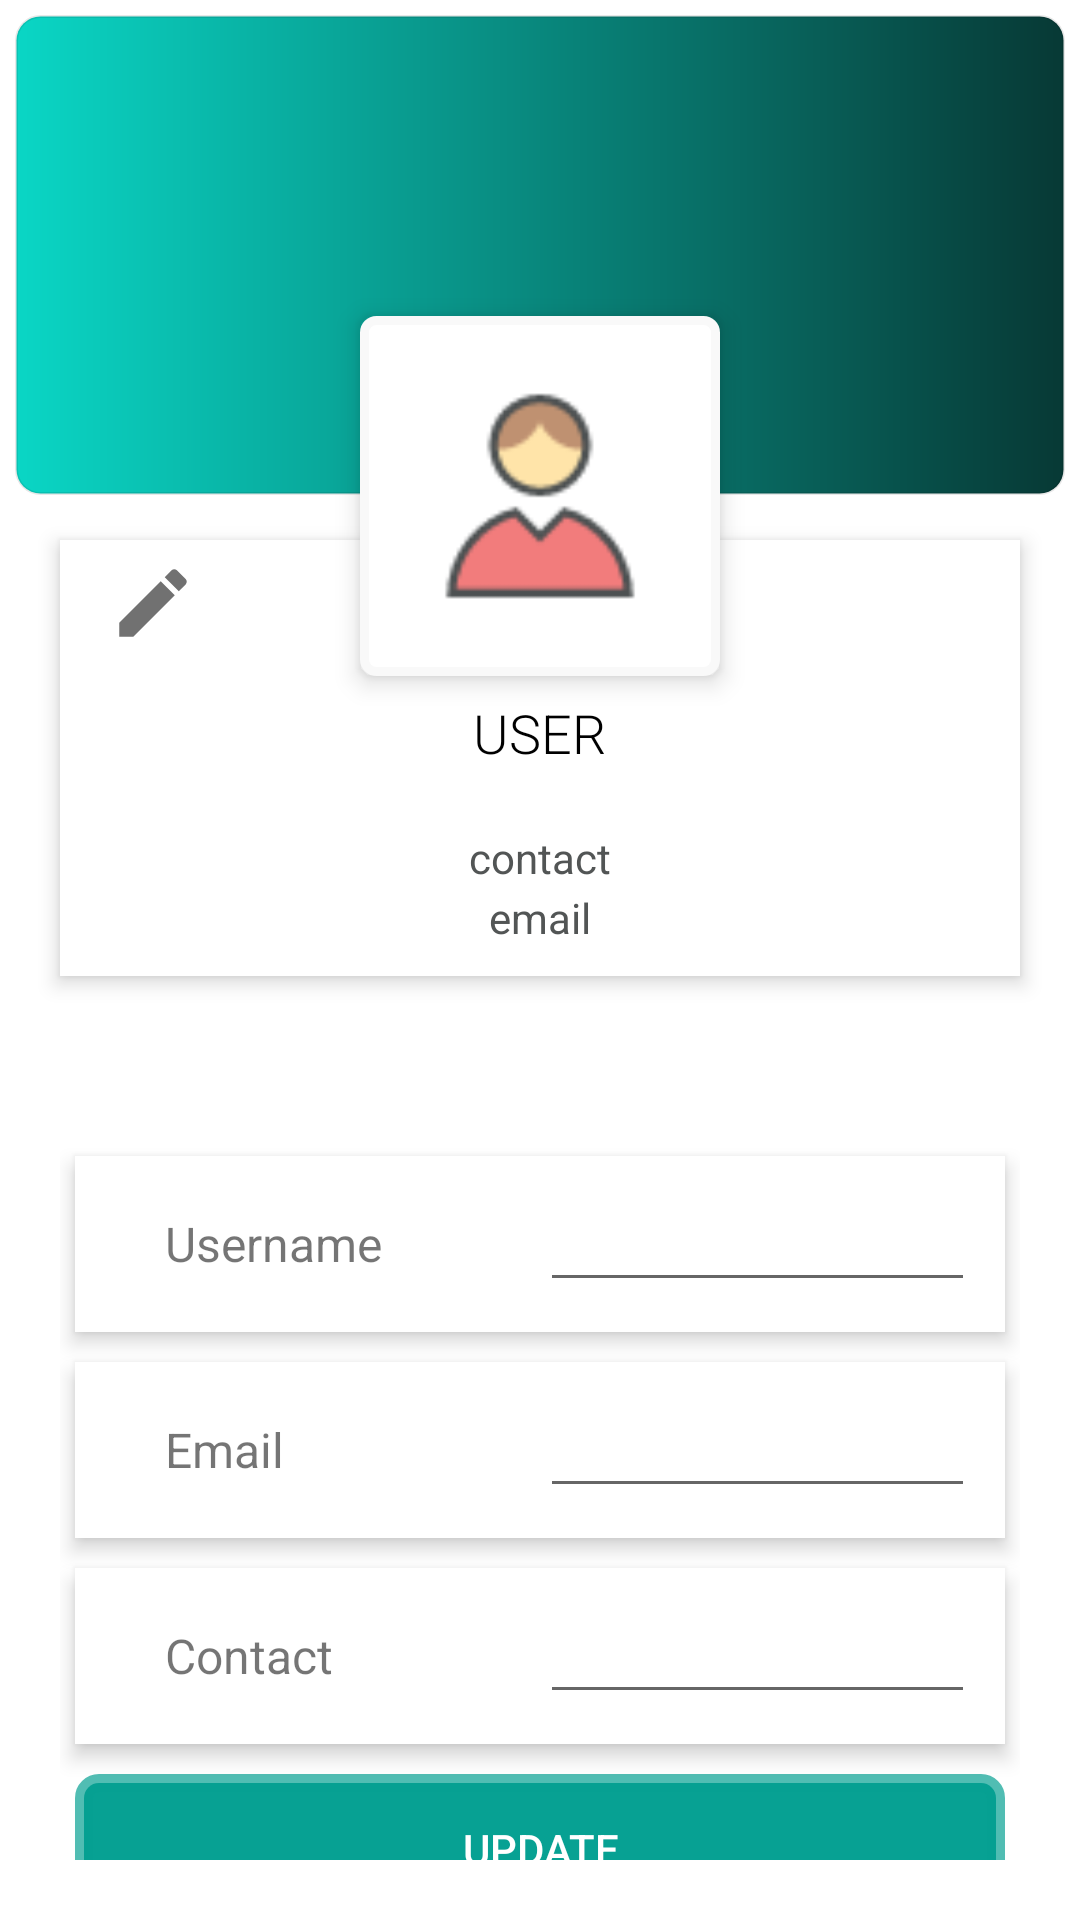

Icon bounding boxes for this 1080×1920 phone screenshot, format [x1, y1, x2, y2]:
edit: [119, 569, 187, 637]
